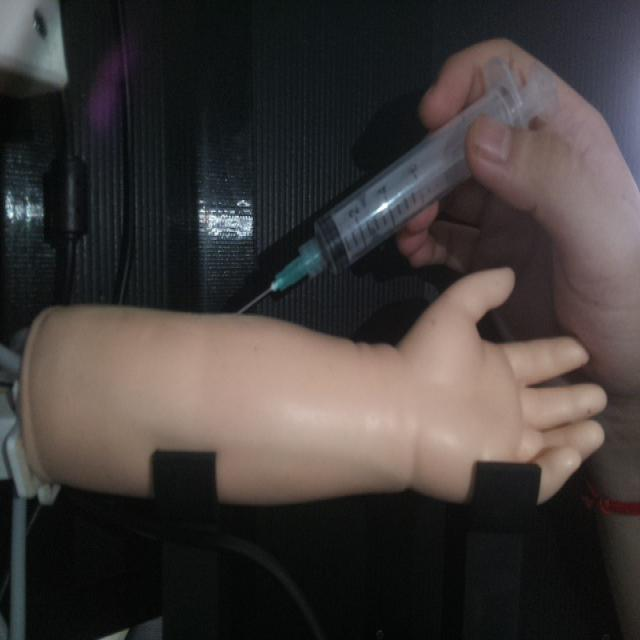Outside: (232, 53, 560, 316)
